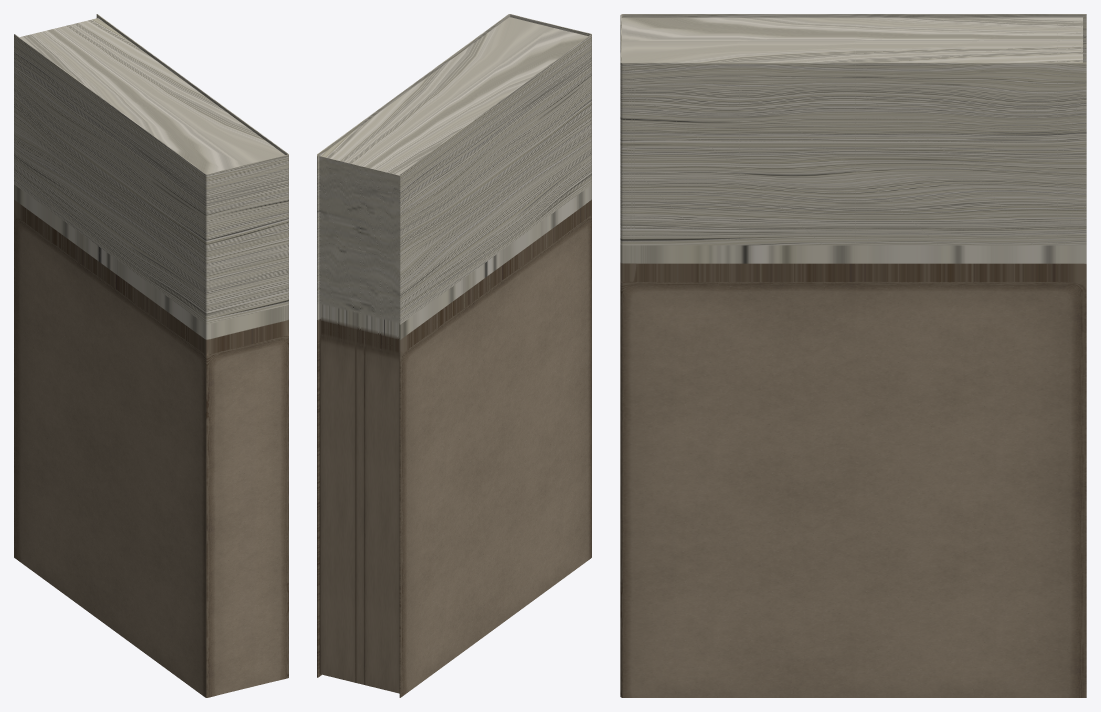
The model's file is SM_BookSoftcover04.fbx.
3 views of the same model, side by side, from view 1: azimuth 30°, elevation 25°; view 2: azimuth 150°, elevation 25°; view 3: azimuth 270°, elevation 25° (orthographic). The views are drawn at different scales.
Parts seen in each view (by area): view 1: SM_BookSoftcover04; view 2: SM_BookSoftcover04; view 3: SM_BookSoftcover04.
Part boxes in pixels (x1,y1,x2,y2): SM_BookSoftcover04: (14,14,288,697); SM_BookSoftcover04: (317,14,591,697); SM_BookSoftcover04: (620,14,1086,697).
Bounding box in the file's own units: 3.74 × 14.94 × 22.45.
